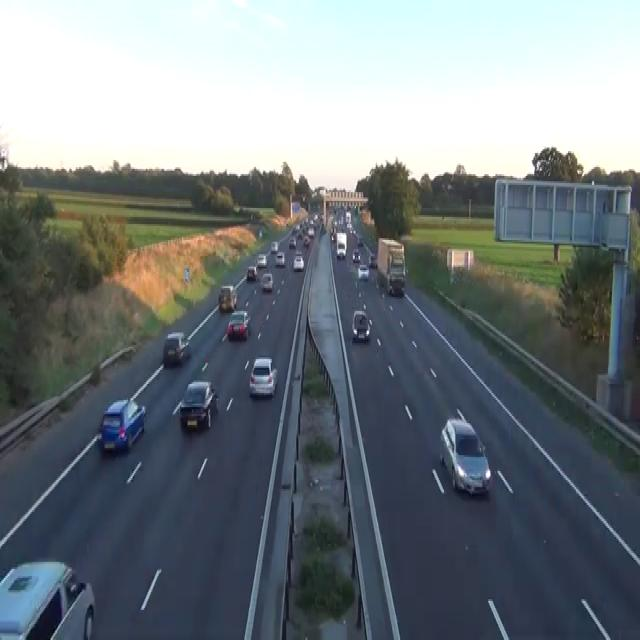Car: (0, 558, 95, 638), (439, 409, 491, 496), (98, 396, 146, 452), (179, 379, 219, 430), (248, 356, 277, 396), (162, 331, 190, 366), (387, 247, 406, 295), (227, 310, 250, 340), (351, 309, 370, 342), (217, 285, 237, 311), (389, 252, 405, 278), (388, 272, 405, 295), (260, 272, 273, 292), (293, 252, 304, 270), (358, 263, 369, 281), (275, 250, 285, 266), (246, 265, 257, 279), (256, 252, 267, 266), (449, 272, 461, 284), (352, 247, 360, 263), (368, 254, 377, 267), (270, 240, 278, 252), (289, 236, 296, 249), (292, 224, 300, 235), (307, 226, 314, 236), (330, 229, 335, 242), (303, 235, 309, 245), (357, 238, 363, 246), (258, 228, 262, 238), (352, 228, 357, 236)
Truck: (376, 237, 406, 295), (336, 231, 347, 260)
